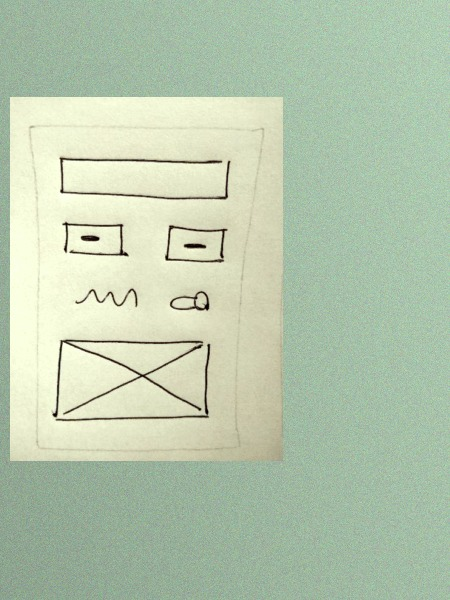button: (56, 217, 134, 265), (160, 221, 232, 269)
image: (49, 338, 216, 423)
switch: (163, 287, 217, 317)
text: (71, 282, 143, 311)
text_input: (52, 153, 233, 206)
